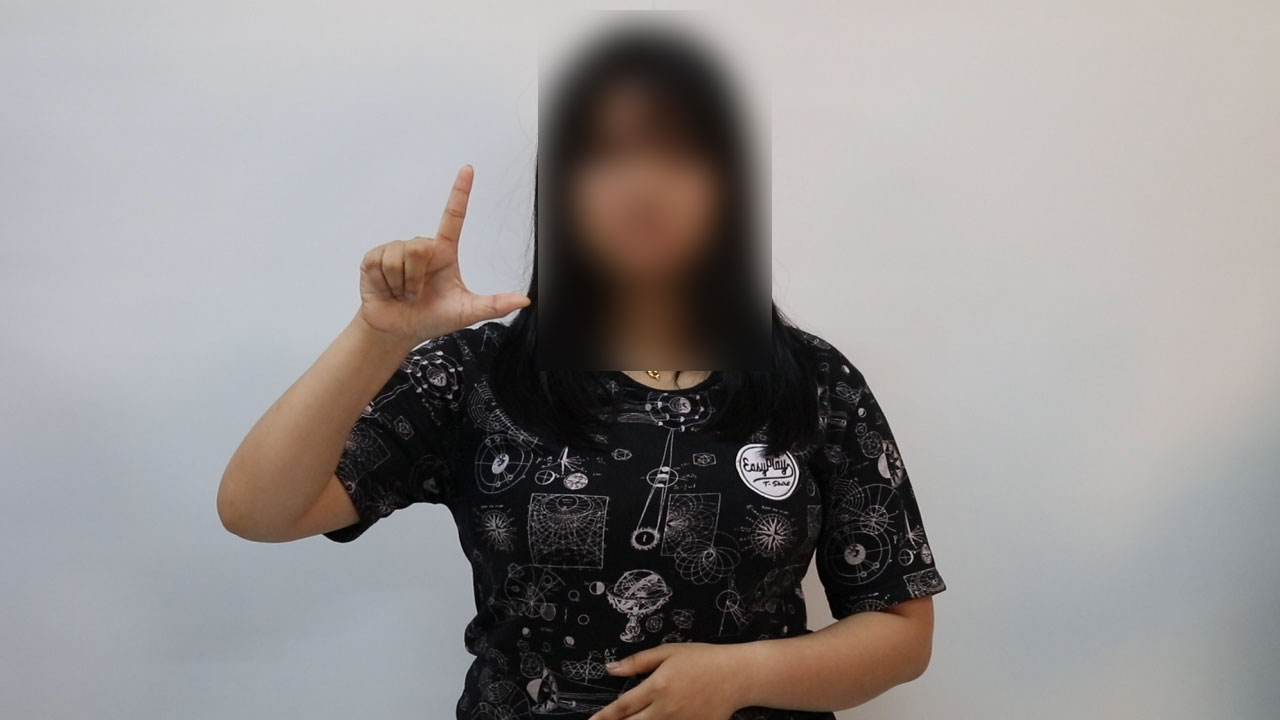lor: (342, 160, 542, 351)
